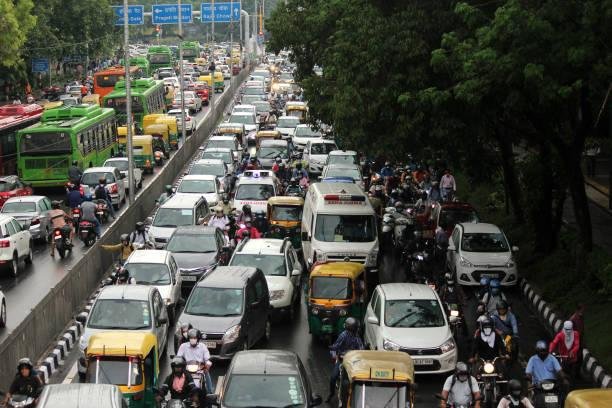AMBULANCE: (303, 185, 379, 269), (315, 190, 370, 213)
